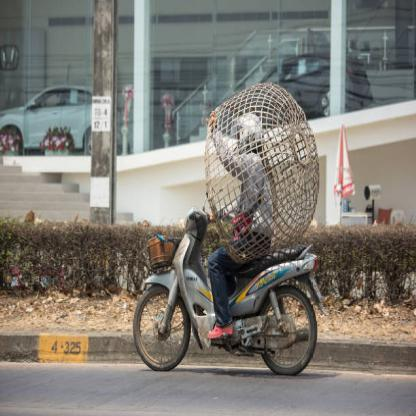Motorcycle: (131, 204, 321, 378)
